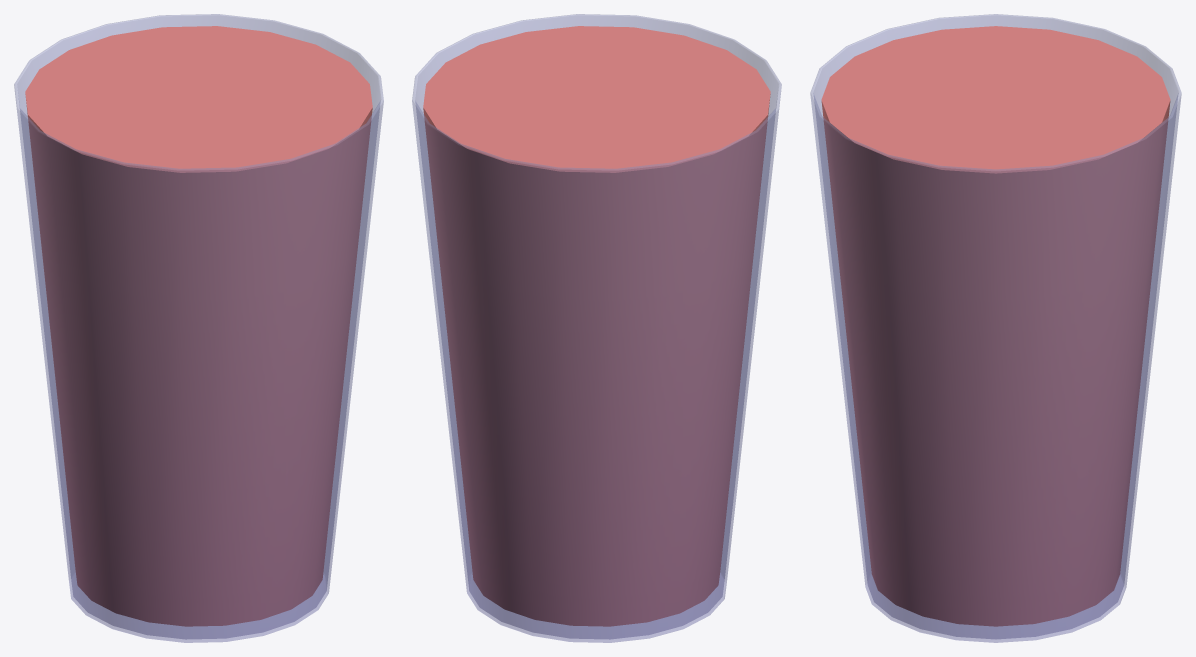
Rendered from FBX_Cup.fbx.
3 views of the same model, side by side, from view 1: azimuth 30°, elevation 25°; view 2: azimuth 150°, elevation 25°; view 3: azimuth 270°, elevation 25° (orthographic).
Visible parts, largest first — view 1: SM_Cup_Water, SM_Cup; view 2: SM_Cup_Water, SM_Cup; view 3: SM_Cup_Water, SM_Cup.
Part boxes in pixels (left/top/right/bottom): SM_Cup_Water: left=25, top=26, right=372, bottom=626; SM_Cup: left=14, top=14, right=383, bottom=642; SM_Cup_Water: left=423, top=26, right=770, bottom=626; SM_Cup: left=412, top=14, right=781, bottom=642; SM_Cup_Water: left=821, top=26, right=1170, bottom=626; SM_Cup: left=810, top=14, right=1181, bottom=642.
Bounding box in the file's own units: 0.0807 × 0.1189 × 0.0807.
